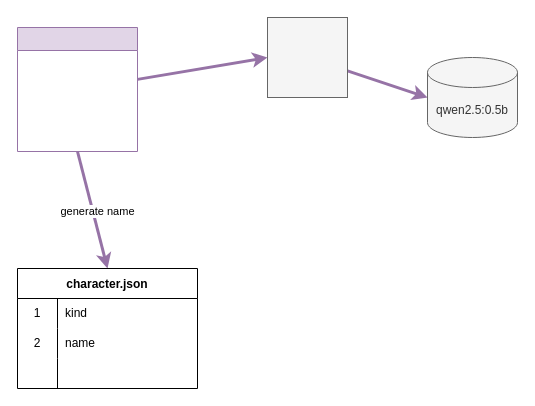
Image size: 535x406. Some labels were removed from this diagram. The box of each missing label's shape, as (x1, y1, x2, y2) in pixels:
Golang app: (16, 26, 138, 152)
Ollama: (266, 16, 348, 98)
